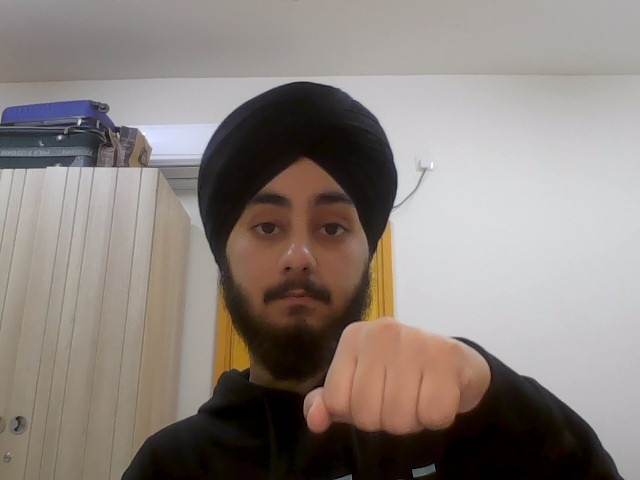Yes: (298, 317, 494, 434)
